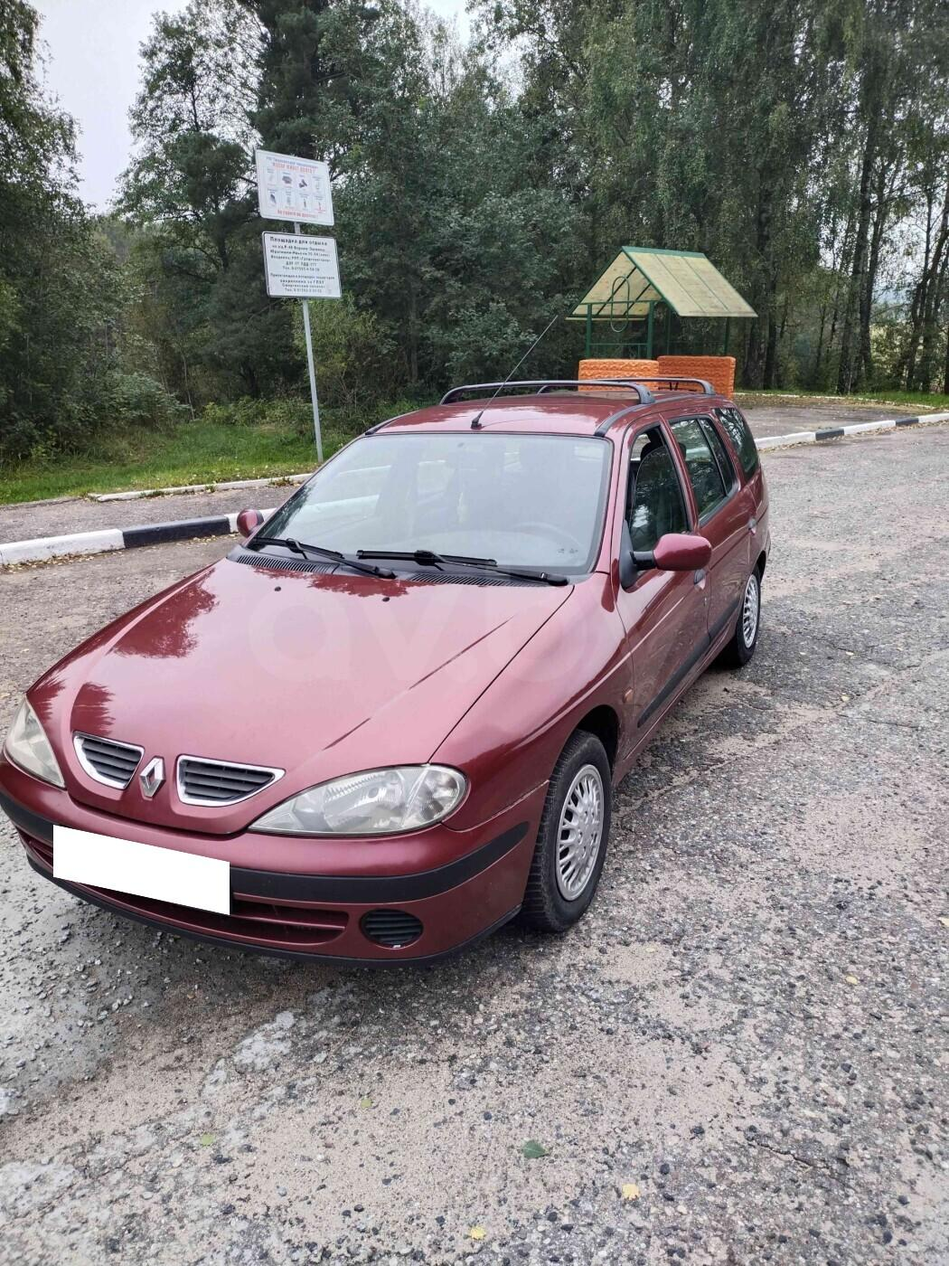Megane_1999-2003: (0, 380, 779, 946)
